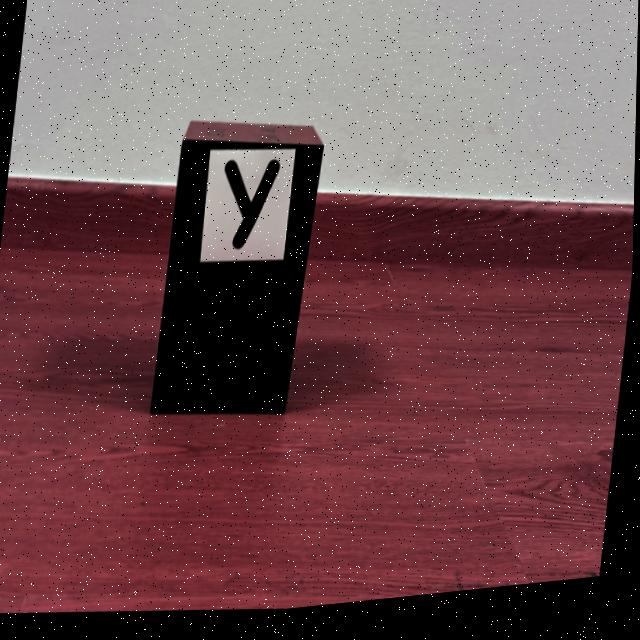Y: (225, 166, 280, 253)
